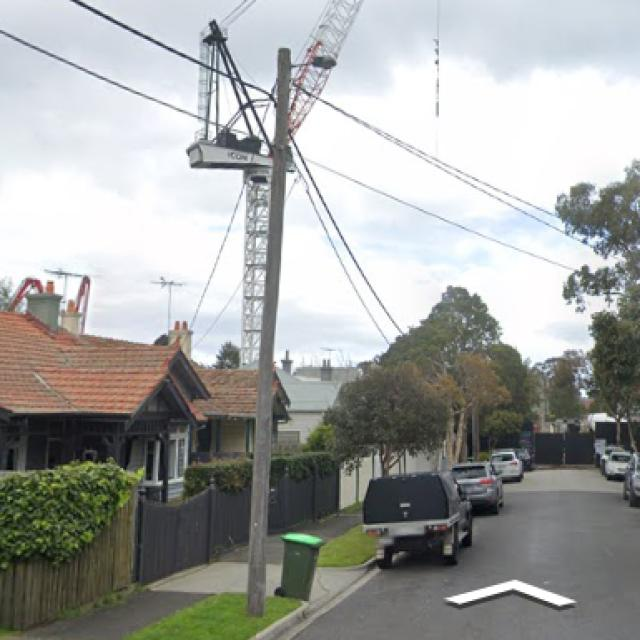streetlight: (290, 54, 338, 72)
timber-pole: (243, 45, 293, 620)
top mount suitable pole: (244, 44, 338, 620)
